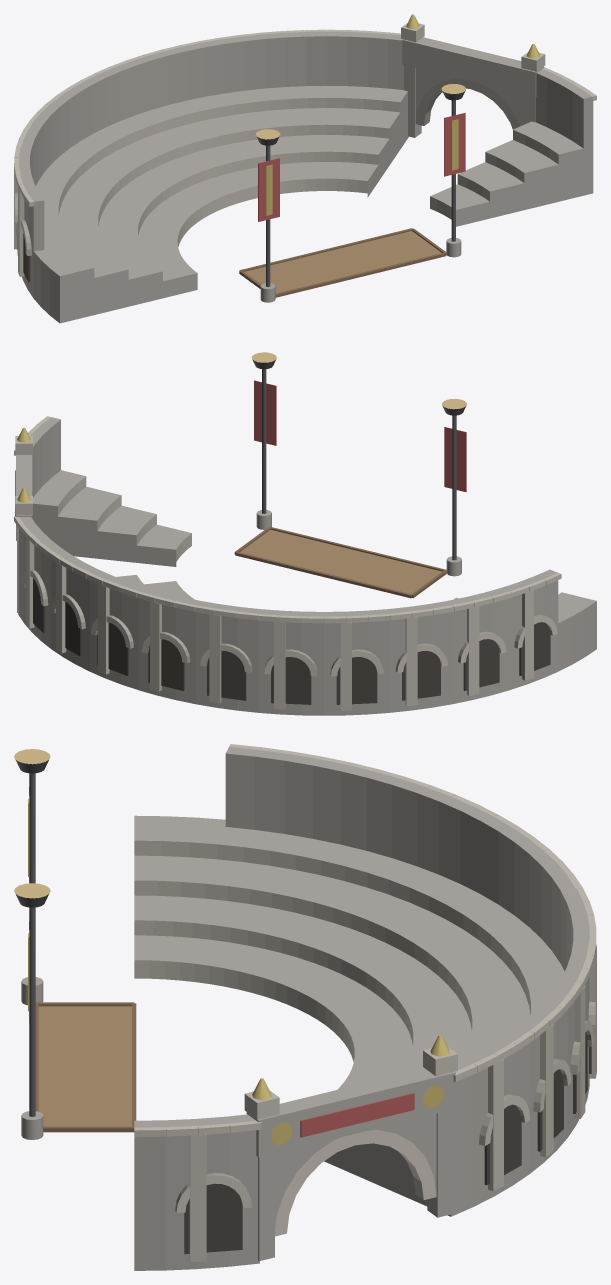
File: amp01.glb
3 renders of one model, top to bottom at view 1: azimuth 30°, elevation 25°; view 2: azimuth 150°, elevation 25°; view 3: azimuth 270°, elevation 25°, orthographic. The views are drawn at different scales.
Parts seen in each view (by area): view 1: AMP01_visible; view 2: AMP01_visible; view 3: AMP01_visible.
Boxes of the visible parts, x1,y1,x2,y2 form: AMP01_visible: [14, 14, 596, 323]; AMP01_visible: [14, 352, 596, 715]; AMP01_visible: [14, 744, 596, 1270].
Bounding box in the file's own units: 24.98 × 7.65 × 15.86.
